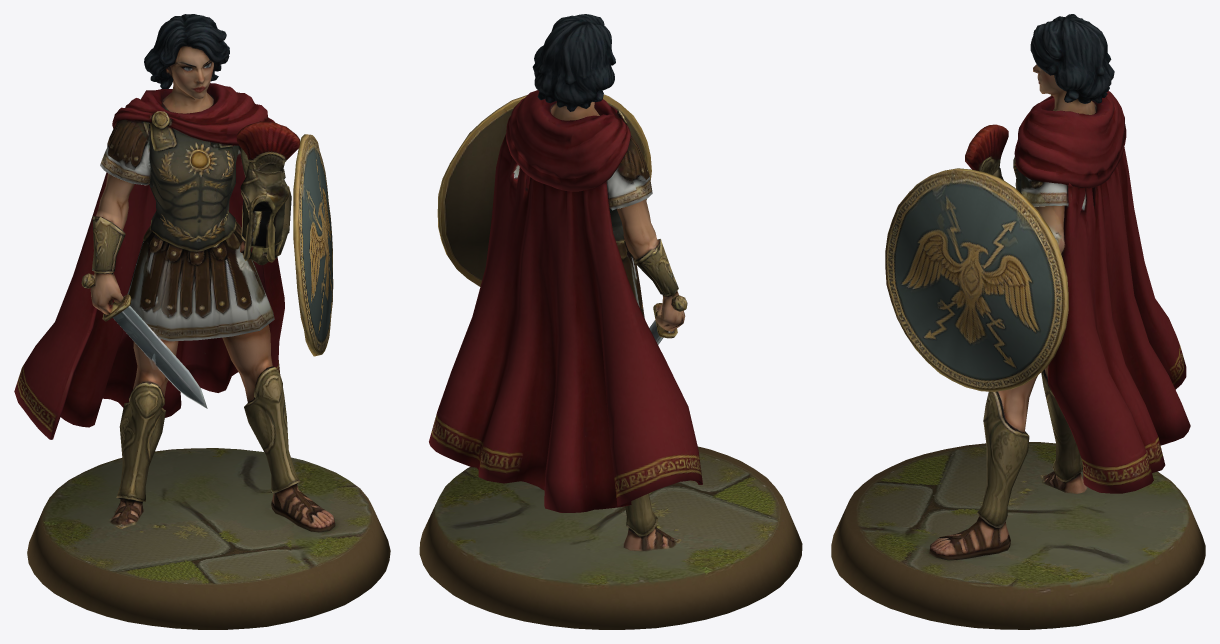
File: fighter_def_female.glb
The picture shows the model from 3 angles, left to right: view 1: azimuth 30°, elevation 25°; view 2: azimuth 150°, elevation 25°; view 3: azimuth 270°, elevation 25°; orthographic projection. The views are drawn at different scales.
Parts seen in each view (by area): view 1: tripo_node_4fd56bc1-4338-4d93-9b8a-69116530043d; view 2: tripo_node_4fd56bc1-4338-4d93-9b8a-69116530043d; view 3: tripo_node_4fd56bc1-4338-4d93-9b8a-69116530043d.
Boxes of the visible parts, x1,y1,x2,y2 form: tripo_node_4fd56bc1-4338-4d93-9b8a-69116530043d: (14, 14, 390, 629); tripo_node_4fd56bc1-4338-4d93-9b8a-69116530043d: (419, 14, 802, 629); tripo_node_4fd56bc1-4338-4d93-9b8a-69116530043d: (831, 14, 1205, 629).
Size of the model in its own units: 0.6348 by 0.998 by 0.6348.
1 material, 1 textured.
